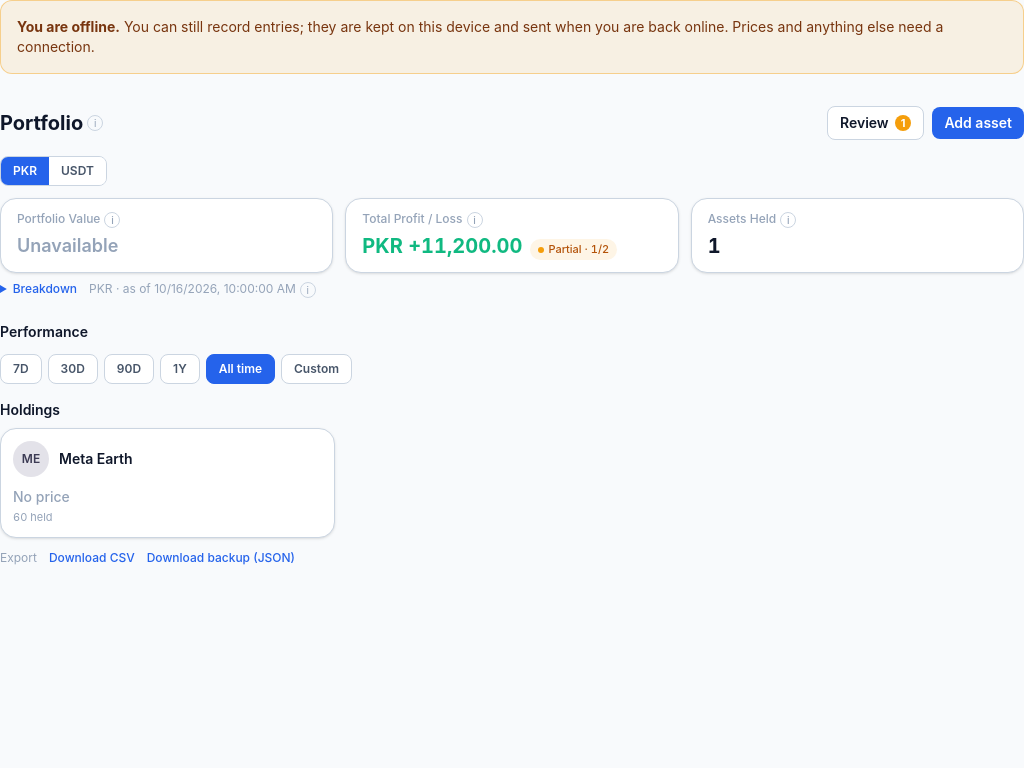
Scenario: entries recorded offline › while offline an entry is kept on the device, not sent, and the form closes
This screenshot has width=1024, height=768.
Click the button "ME Meta Earth No price 60 held": x=31, y=459 [0, 428, 335, 538]
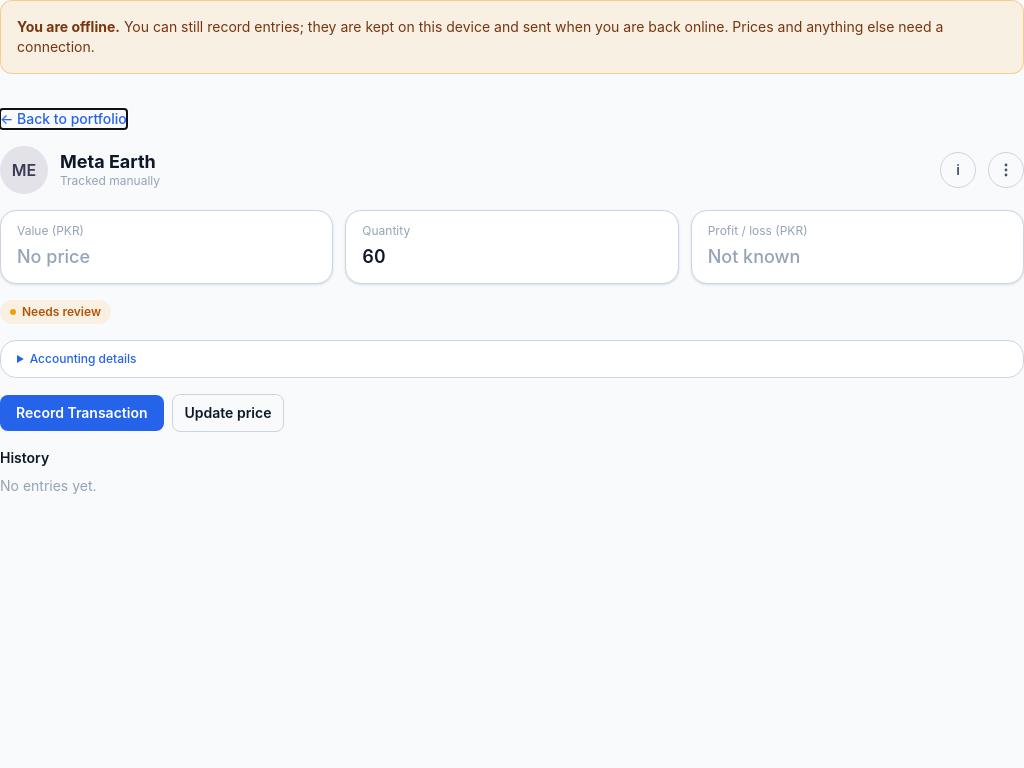
Click the button "Record Transaction": x=82, y=413 [0, 395, 164, 431]
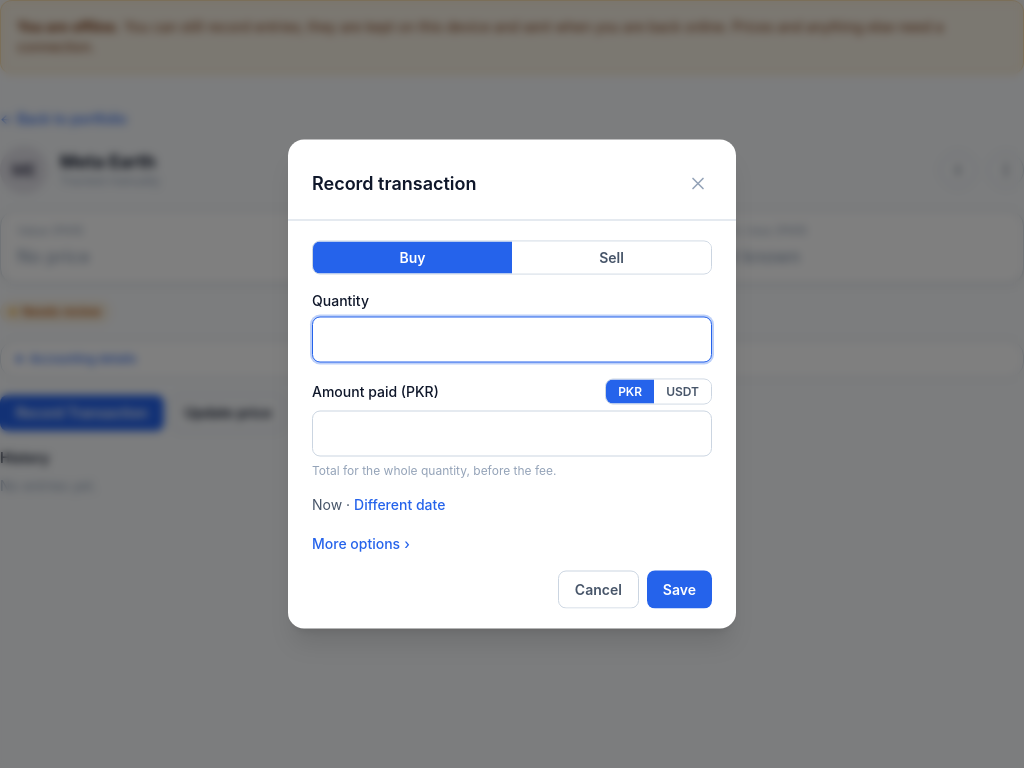
In the field labelled "Quantity": x=512, y=340 [312, 316, 712, 362], type "10"
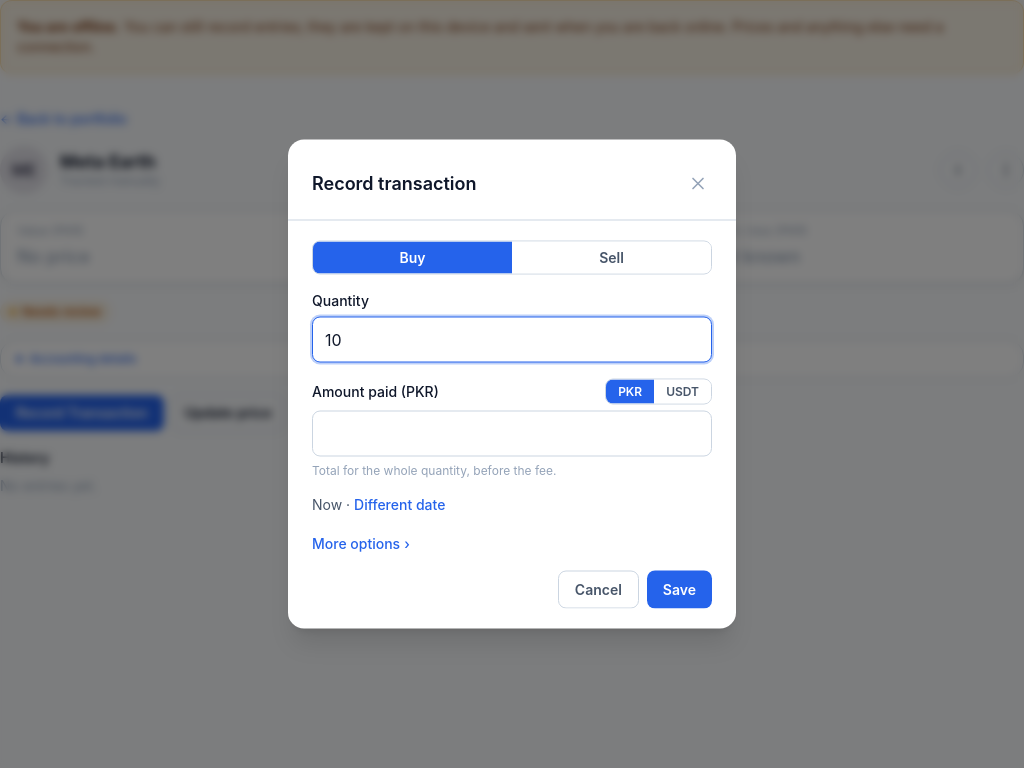
In the field labelled "Amount paid (PKR)": x=512, y=434 [312, 410, 712, 456], type "1000"
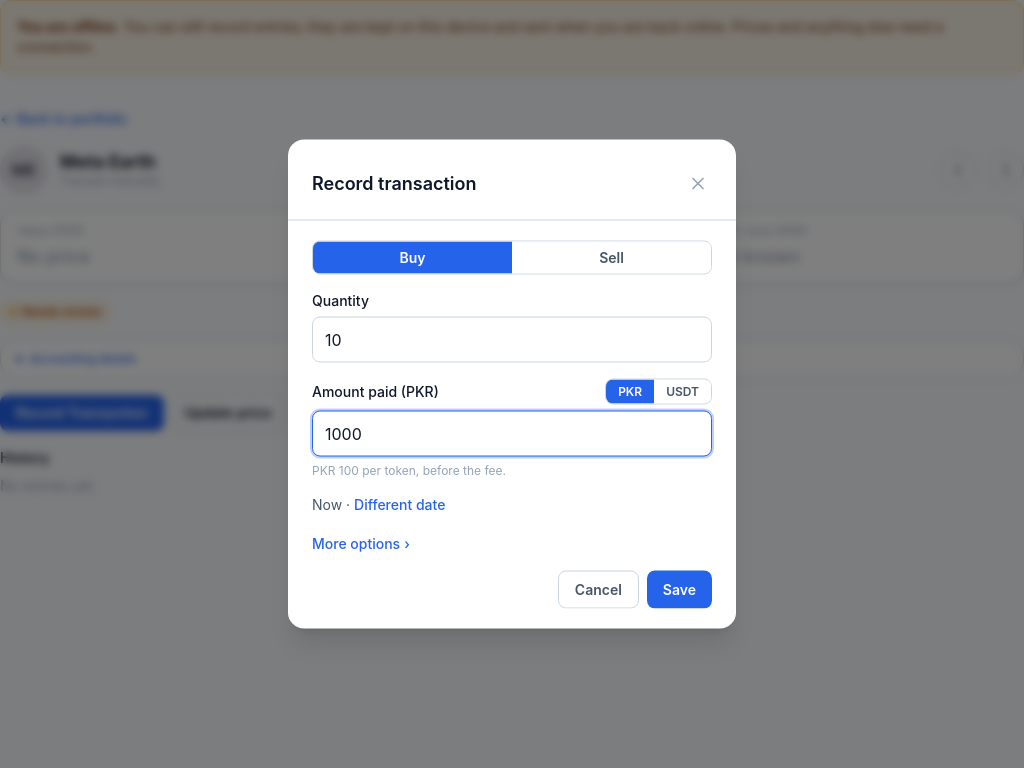
Click the button "Save": x=679, y=590 [647, 570, 712, 608]
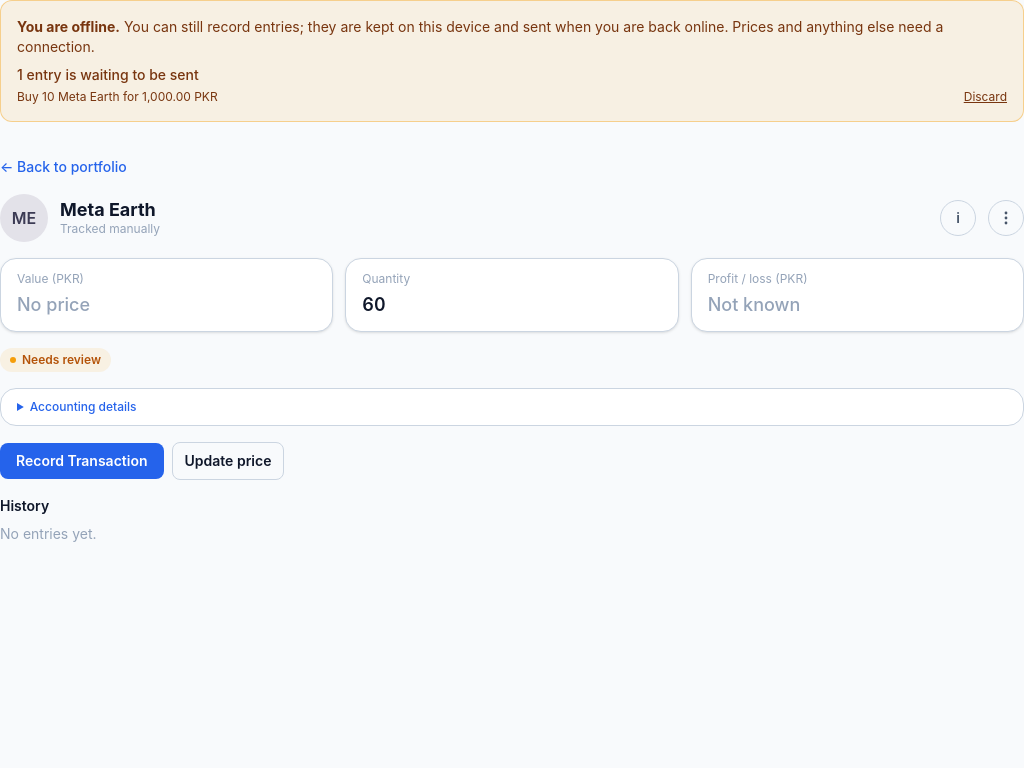
Expected: the text "1 entry is waiting to be sent" is shown, [17, 66, 199, 83]
Expected: the text "Buy 10 Meta Earth for 1,000.00 PKR" is shown, [17, 89, 218, 105]
Expected: the form is gone
